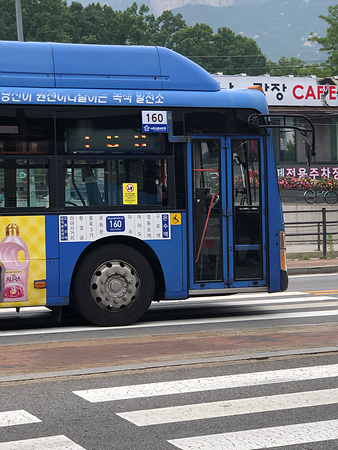entrance: (183, 125, 278, 293)
